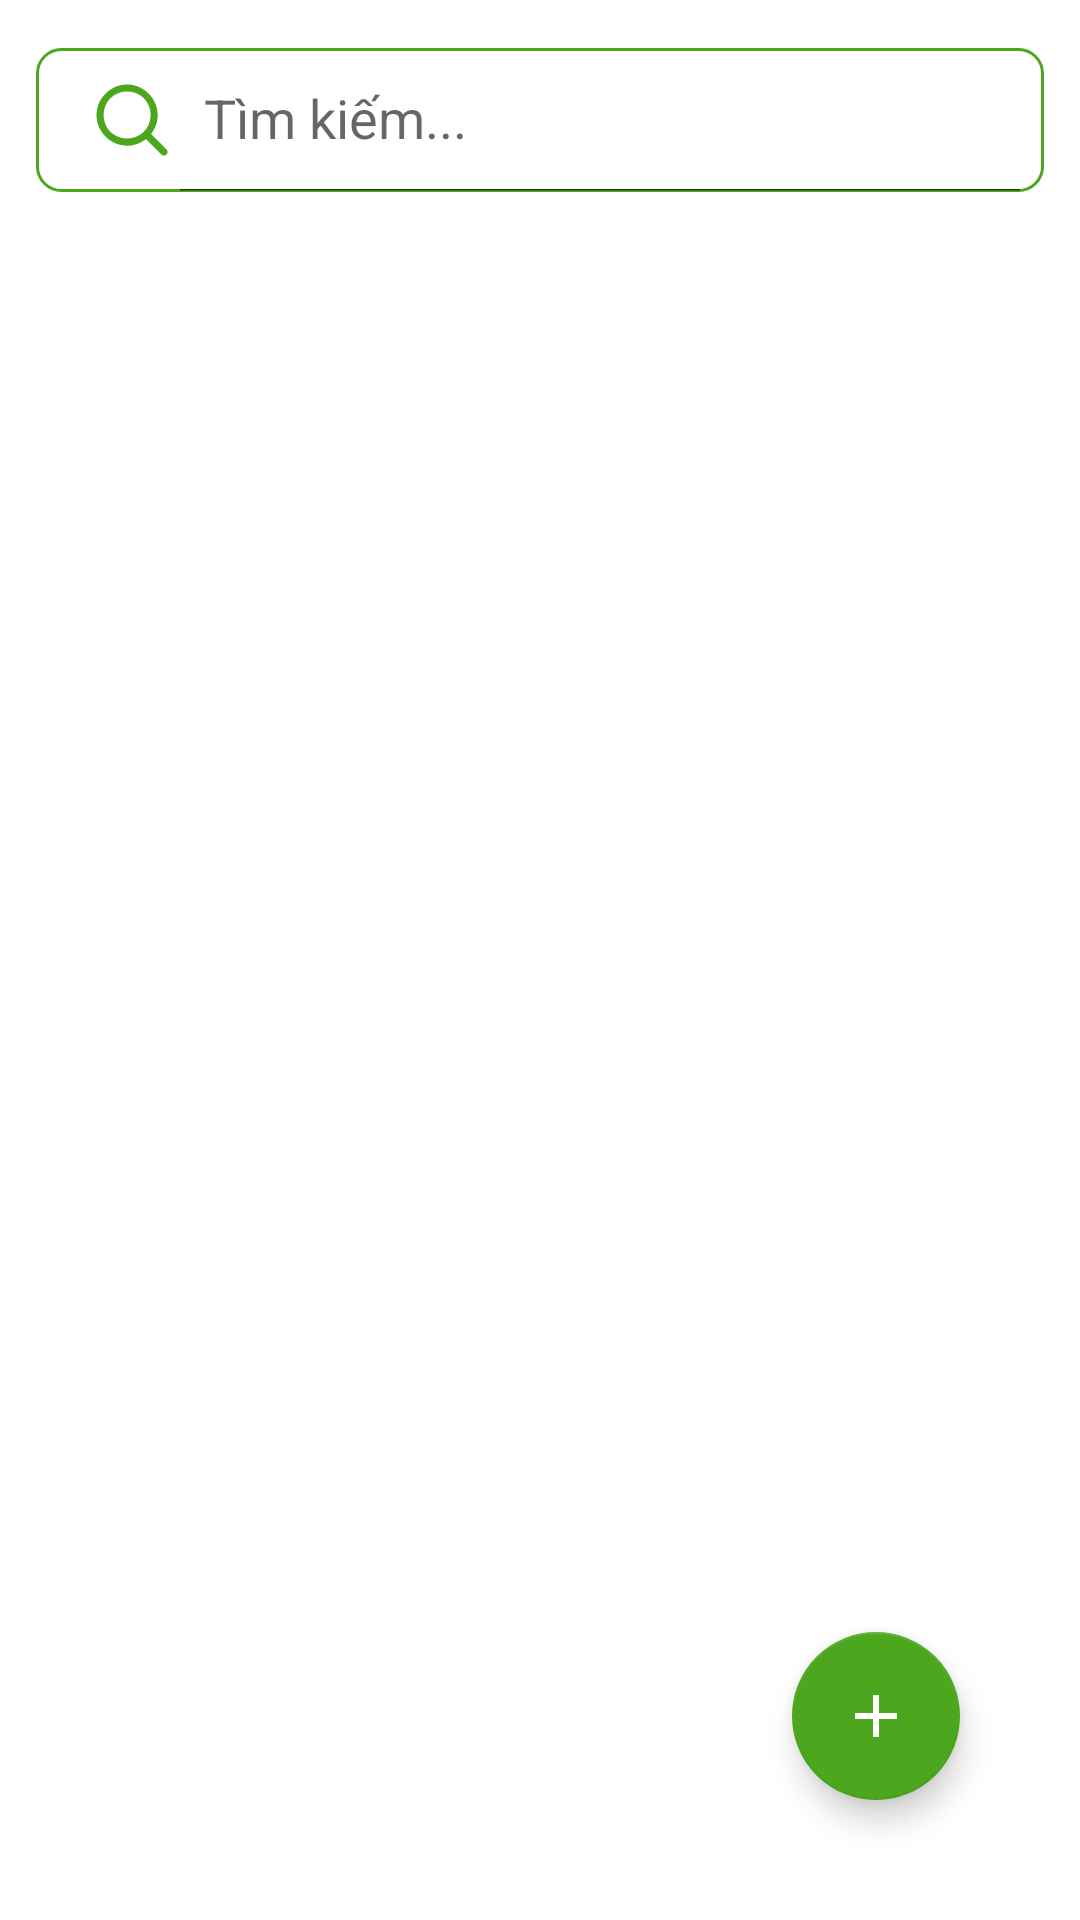

Icons on this 1080x1920 Android screen, each with the point to tap as (x=x, y=y):
add: (x=876, y=1716)
